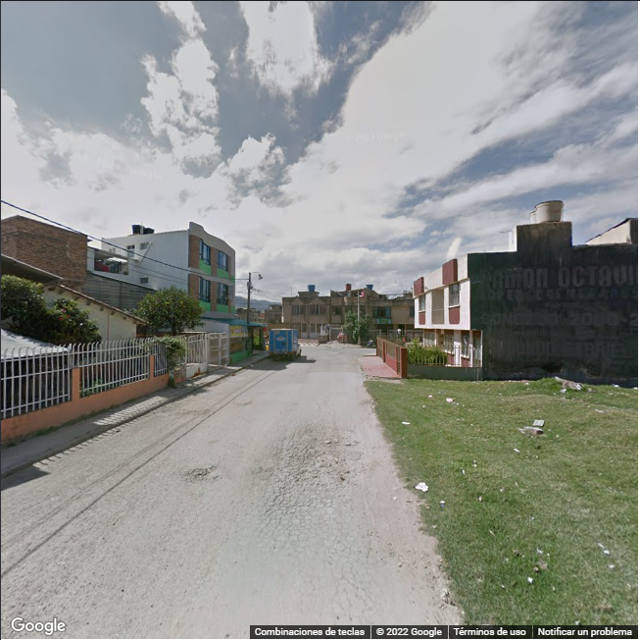D00: (330, 579, 368, 623)
D20: (257, 485, 347, 553)
